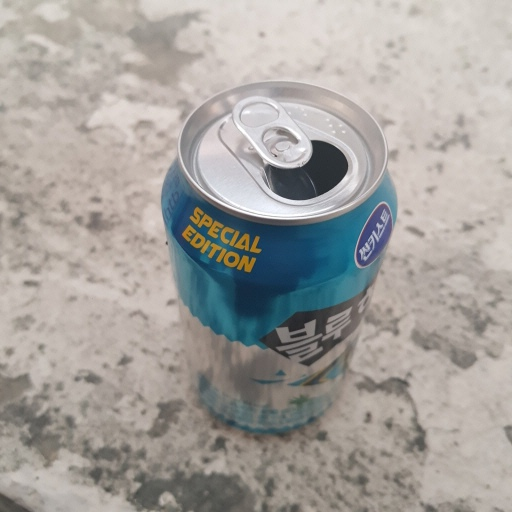Metal_0: (156, 79, 399, 438)
